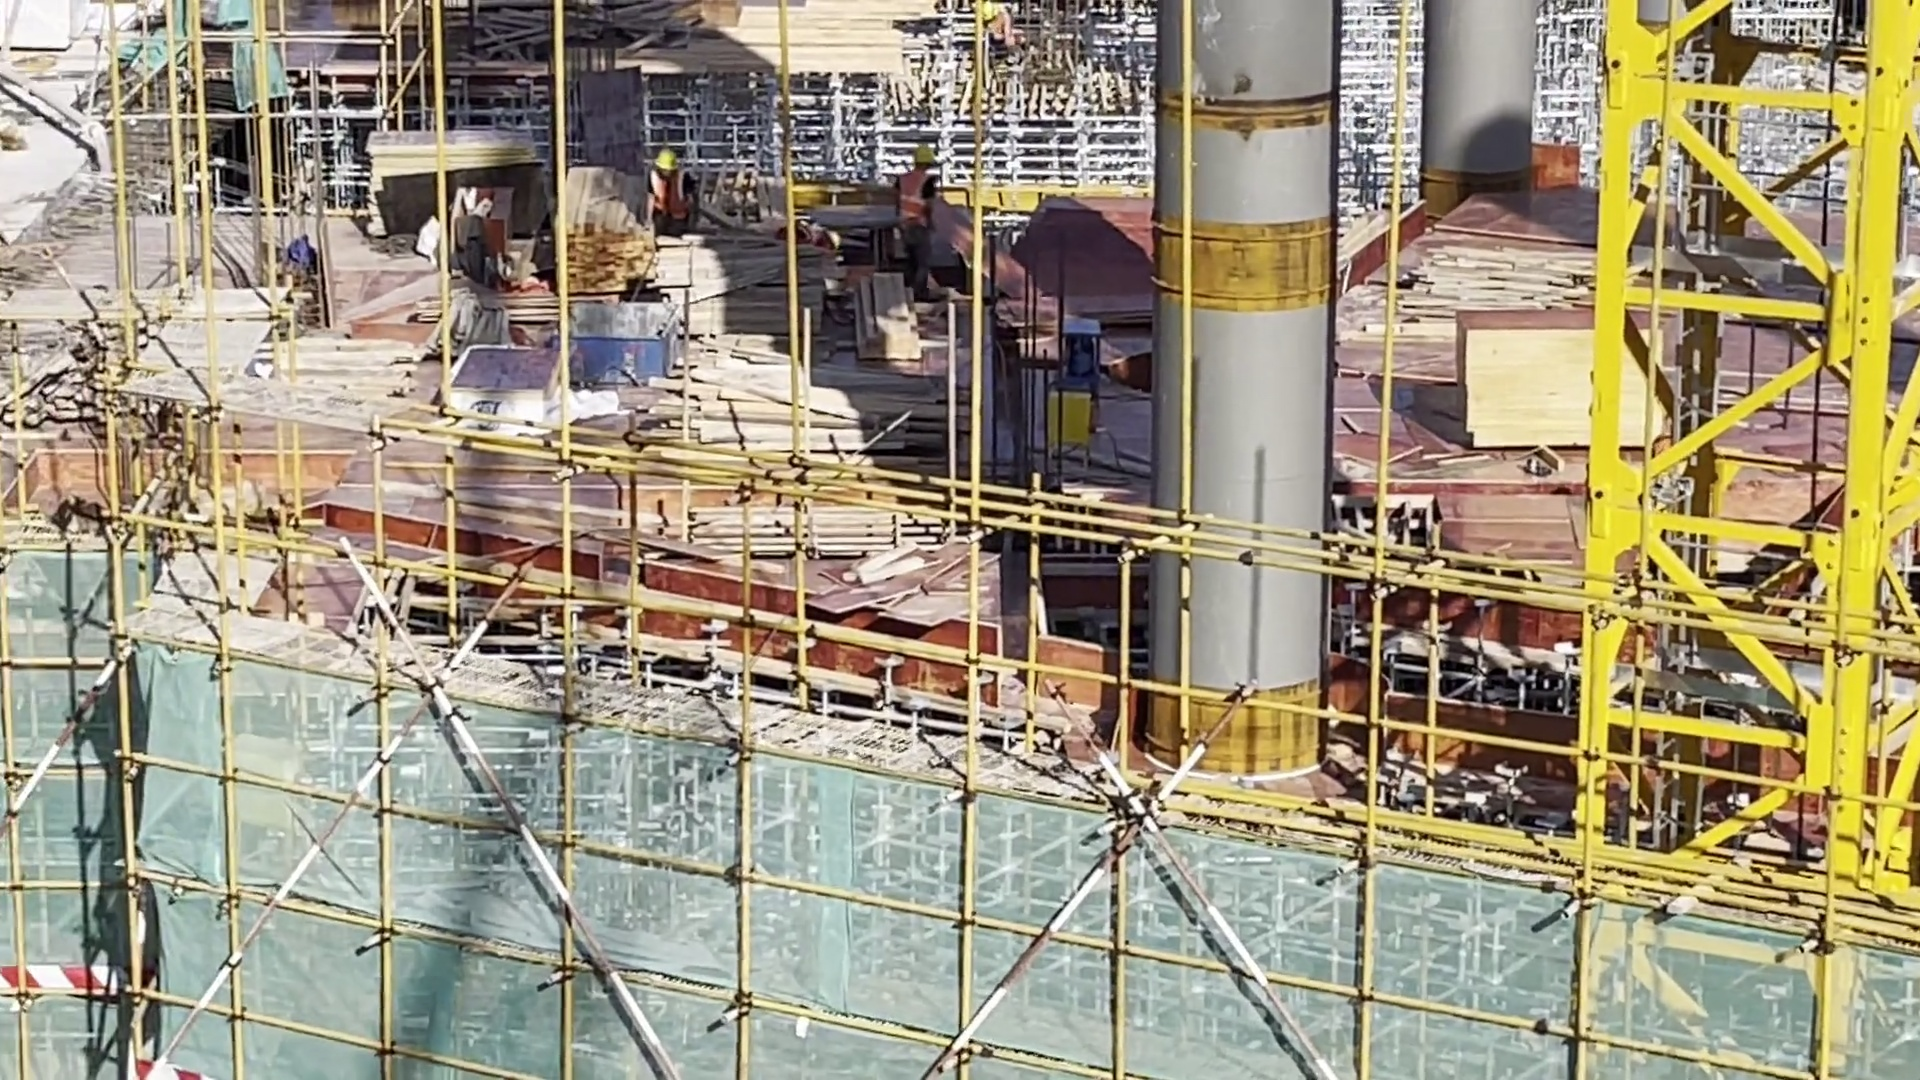board: (1458, 306, 1655, 461), (369, 130, 533, 237)
helmet: (653, 147, 682, 176), (915, 142, 941, 168)
hopper: (568, 298, 684, 387)
person: (888, 138, 947, 323), (650, 145, 694, 256), (981, 1, 1017, 59)
vest: (891, 165, 939, 243), (644, 169, 703, 225)
wood: (688, 332, 948, 456), (558, 167, 651, 299), (856, 273, 919, 366)
